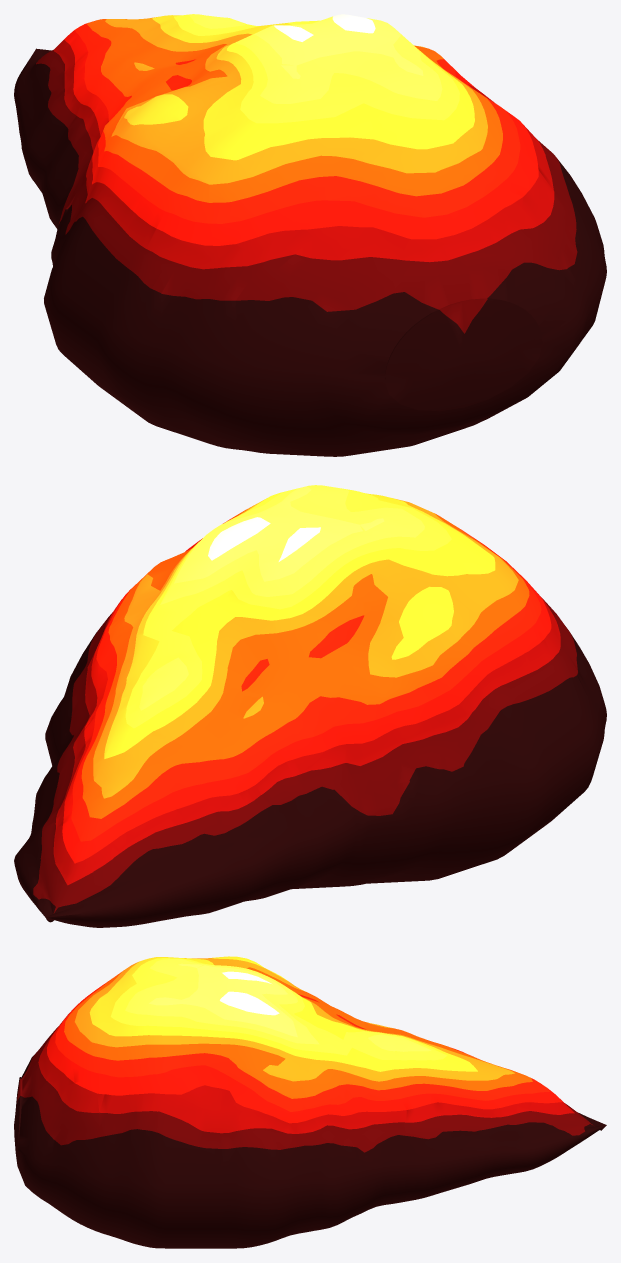
Rendered from flame_drop_269.glb.
3 renders of one model, top to bottom at view 1: azimuth 30°, elevation 25°; view 2: azimuth 150°, elevation 25°; view 3: azimuth 270°, elevation 25°, orthographic. The views are drawn at different scales.
Visible parts, largest first — view 1: flame_drop_269; view 2: flame_drop_269; view 3: flame_drop_269.
Part boxes in pixels (x1,y1,x2,y2): flame_drop_269: (14,14,606,456); flame_drop_269: (14,485,606,927); flame_drop_269: (14,956,606,1248).
Bounding box in the file's own units: 18.02 × 12.45 × 27.19.
